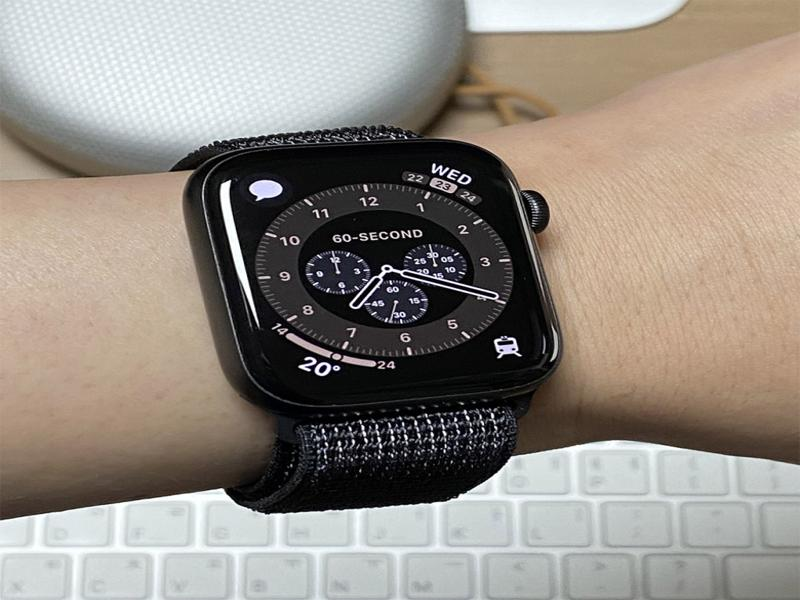watch: (168, 122, 558, 519)
